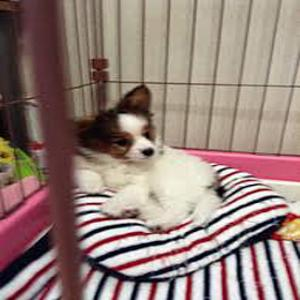yell: (74, 85, 223, 231)
